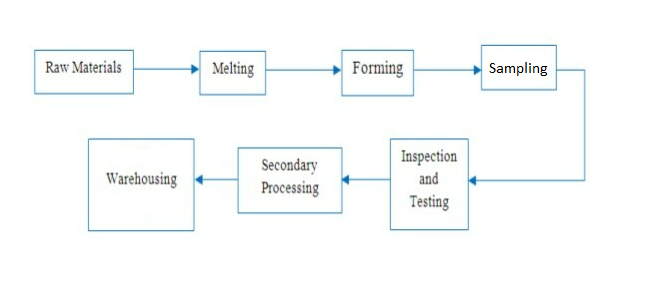arrow: (466, 68, 590, 185), (409, 63, 483, 76), (338, 171, 393, 188), (266, 64, 344, 75), (130, 63, 199, 73), (192, 173, 240, 186)
process: (87, 135, 198, 232), (233, 145, 346, 217), (388, 136, 473, 231), (29, 45, 135, 96), (338, 45, 416, 99), (478, 43, 561, 93), (195, 47, 268, 97)
text: (399, 145, 458, 216), (258, 157, 321, 197), (104, 166, 177, 191), (44, 59, 124, 75), (352, 59, 406, 80), (485, 61, 550, 78), (209, 58, 254, 80)
